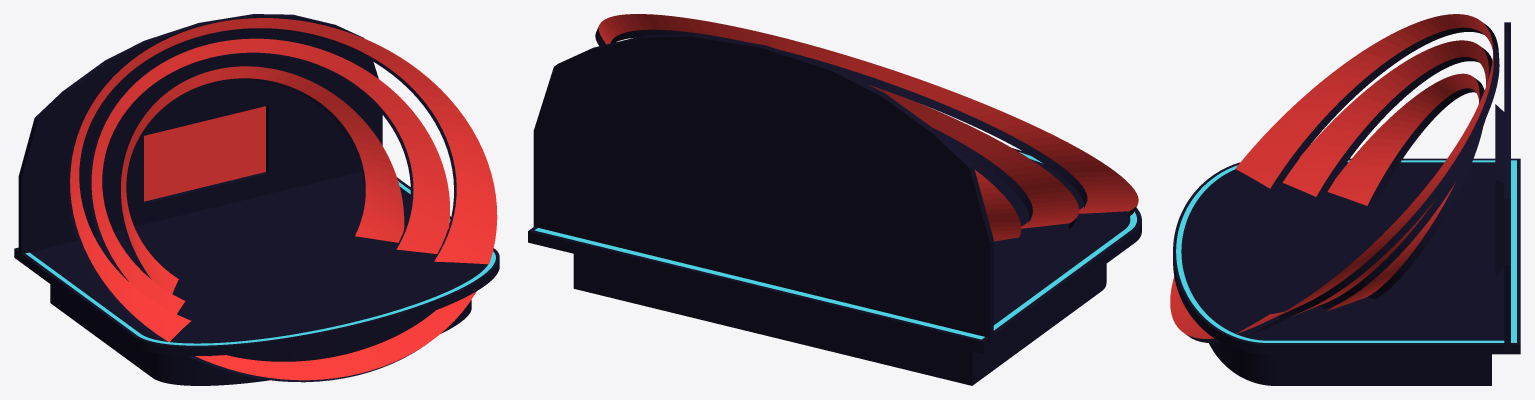
Rendered from stage.glb.
The picture shows the model from 3 angles, left to right: view 1: azimuth 30°, elevation 25°; view 2: azimuth 150°, elevation 25°; view 3: azimuth 270°, elevation 25°; orthographic projection. The views are drawn at different scales.
Parts seen in each view (by area): view 1: Cylinder_2.001, Cylinder.001_3, Cube.001_5, Cube_4; view 2: Cube.001_5, Cylinder_2.001, Cylinder.001_3; view 3: Cylinder_2.001, Cylinder.001_3, Cube.001_5, Cube_4.
Part boxes in pixels (x1,y1,x2,y2): Cylinder_2.001: (14,171,499,385); Cylinder.001_3: (67,18,497,382); Cube.001_5: (18,14,382,258); Cube_4: (132,92,280,217); Cube.001_5: (533,34,993,342); Cylinder_2.001: (528,148,1141,385); Cylinder.001_3: (595,14,1138,241); Cylinder_2.001: (1173,158,1520,385); Cylinder.001_3: (1170,14,1499,342); Cube.001_5: (1504,22,1510,348); Cube_4: (1495,104,1504,274).
Bounding box in the file's own units: 22.06 × 12.94 × 15.86.
